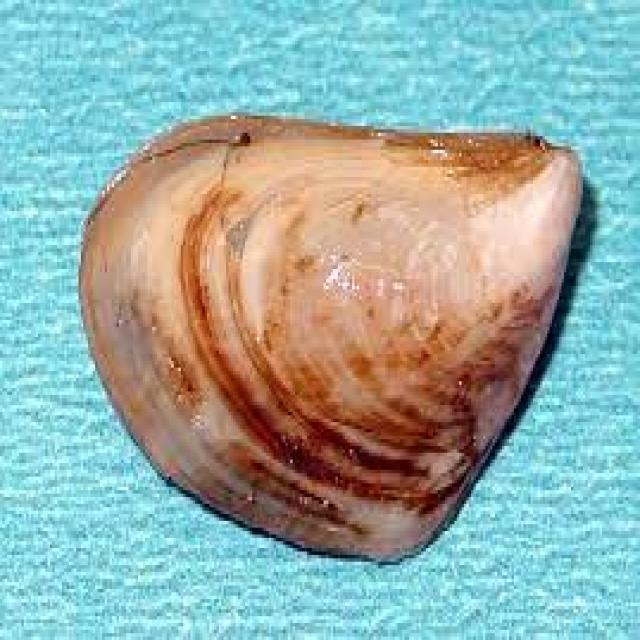Dreissena_bugensis: (79, 116, 582, 565)
